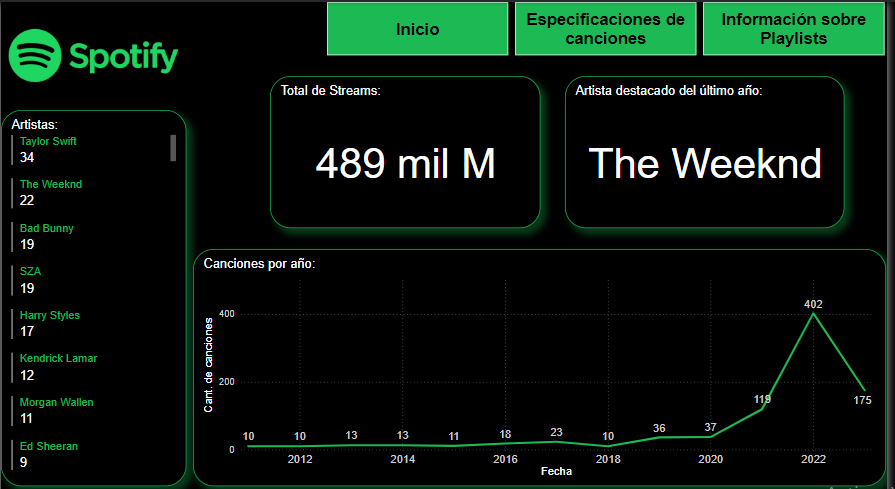

Layout of this report page (visuals, bound fields, positions):
{"tool":"powerbi","page":{"name":"Artistas","canvas":[1280,720],"ordinal":1},"visuals":[{"type":"multiRowCard","title":"Canciones por artista","fields":{"Values":["Artists.artists_name","Songs.track_id"]},"box":[0,155.9,267.9,544.3],"z":0},{"type":"lineChart","title":"Canciones por año","fields":{"Y":["CountNonNull(Songs.track_id)"],"Category":["Date.Date.Variación.Jerarquía de fechas.Año"]},"box":[277.8,357.2,1002,343],"z":1000},{"type":"image","box":[0,0,267.4,155.5],"z":2000},{"type":"pageNavigator","box":[471.9,0,808.1,77.8],"z":3000},{"type":"card","title":"Total de Streams ","fields":{"Values":["Metricas.TotalStreamsByArtist"]},"box":[388.3,106.3,391.2,219.7],"z":4000},{"type":"card","title":"Artista destacado del último  año","fields":{"Values":["Metricas.MostListenedArtistLastYear"]},"box":[815,106.3,403.9,219.7],"z":5000}]}

Visuals, with their boxes in screenshot pixels (x1, y1, x2, y2), scaled from the page's 1280x720 canvas onto the 895x489 screenshot:
"Canciones por artista" multiRowCard: <box>0,106,187,476</box>
"Canciones por año" lineChart: <box>194,243,894,476</box>
image: <box>0,0,187,106</box>
pageNavigator: <box>330,0,894,53</box>
"Total de Streams " card: <box>272,72,545,221</box>
"Artista destacado del último  año" card: <box>570,72,852,221</box>
